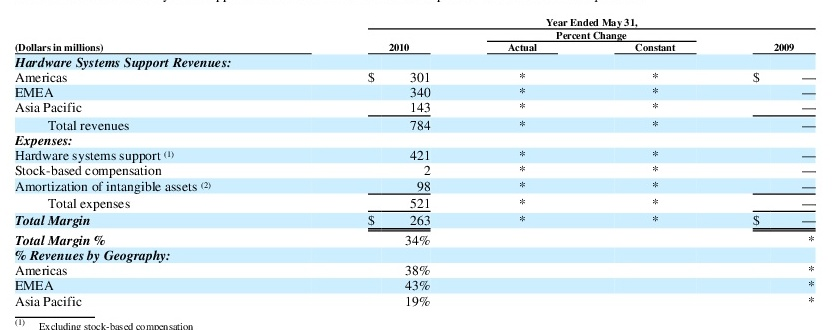table: (0, 0, 834, 330)
